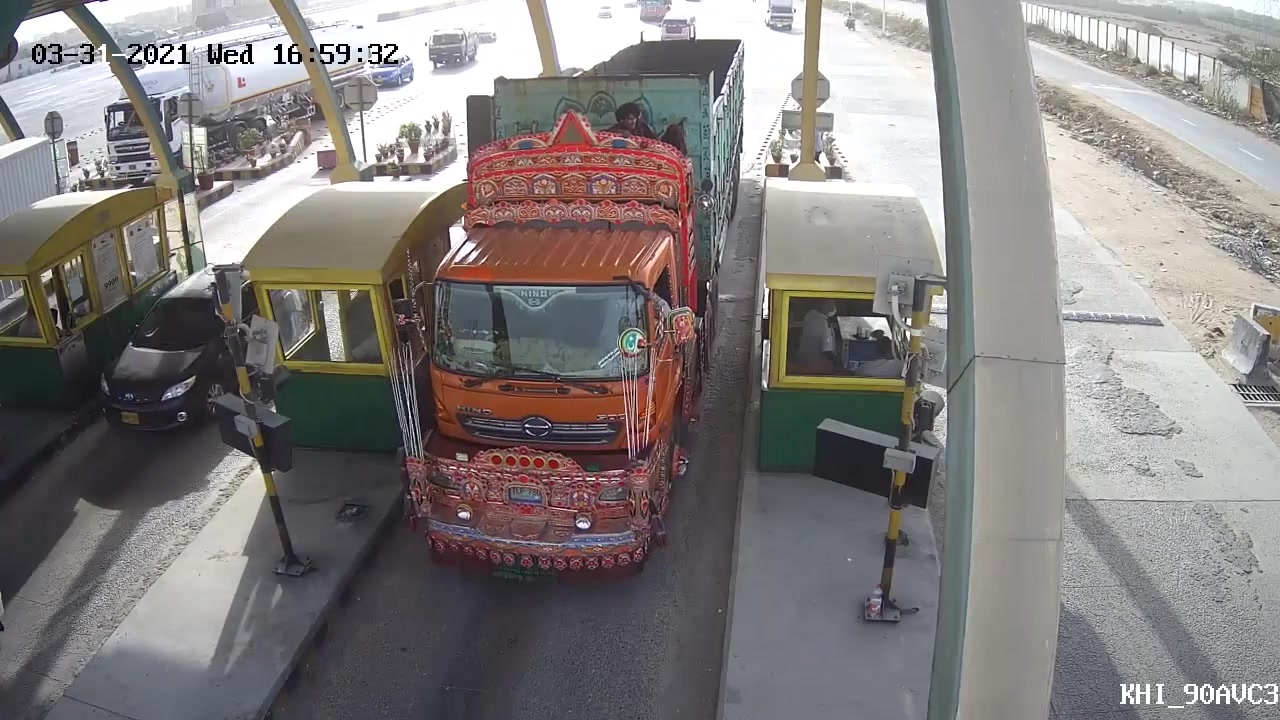F6: (401, 30, 753, 573)
